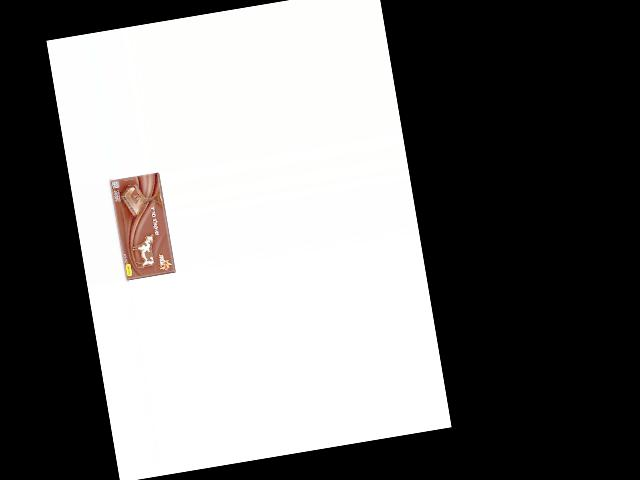chocolate: (109, 173, 176, 283)
